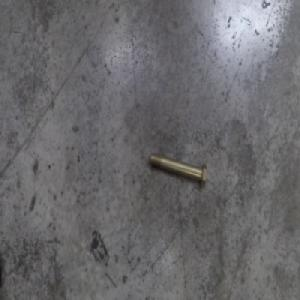Bolt: (148, 150, 207, 187)
